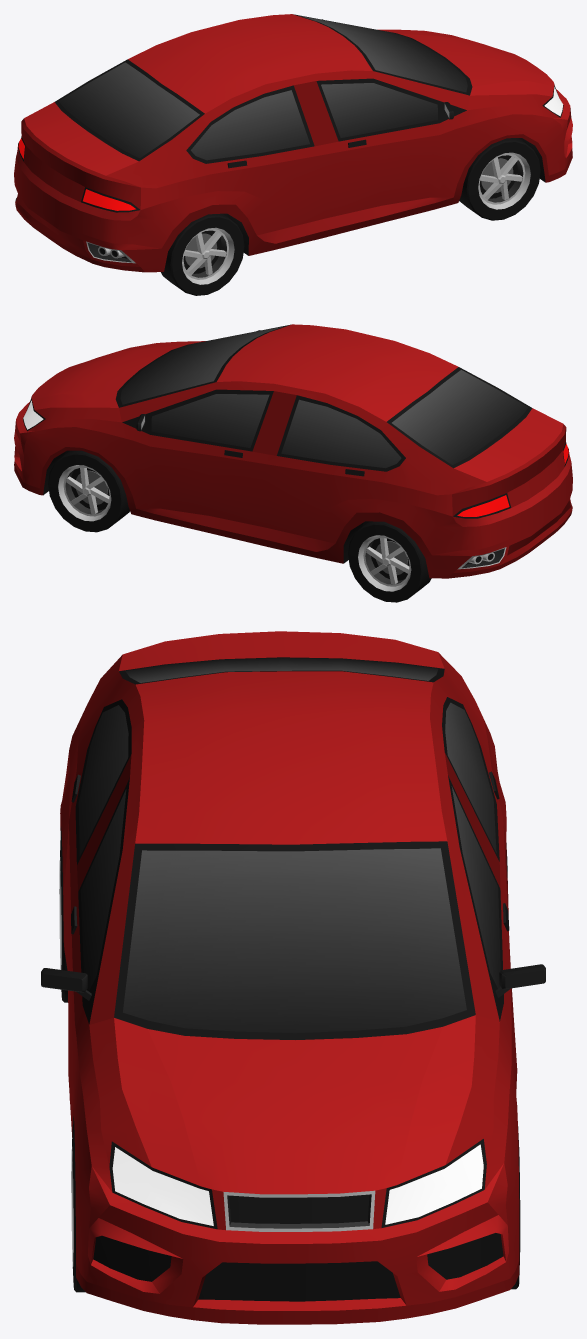
The model's file is Car_248.glb.
The picture shows the model from 3 angles, top to bottom: view 1: azimuth 30°, elevation 25°; view 2: azimuth 150°, elevation 25°; view 3: azimuth 270°, elevation 25°; orthographic projection. The views are drawn at different scales.
Parts seen in each view (by area): view 1: Car_248, wheel_3_Car_248_Wheel_3R, wheel_0_Car_248_Wheel_1R; view 2: Car_248, wheel_2_Car_248_Wheel_3L, wheel_1_Car_248_Wheel_2L; view 3: Car_248.
Part boxes in pixels (x1,y1,x2,y2): Car_248: (14,14,572,272); wheel_3_Car_248_Wheel_3R: (161,213,244,295); wheel_0_Car_248_Wheel_1R: (459,138,540,220); Car_248: (14,324,572,578); wheel_2_Car_248_Wheel_3L: (348,521,431,602); wheel_1_Car_248_Wheel_2L: (48,450,129,532); Car_248: (41,631,545,1324).
Size of the model in its own units: 4.22 by 1.42 by 1.82.
2 materials, 2 textured.
